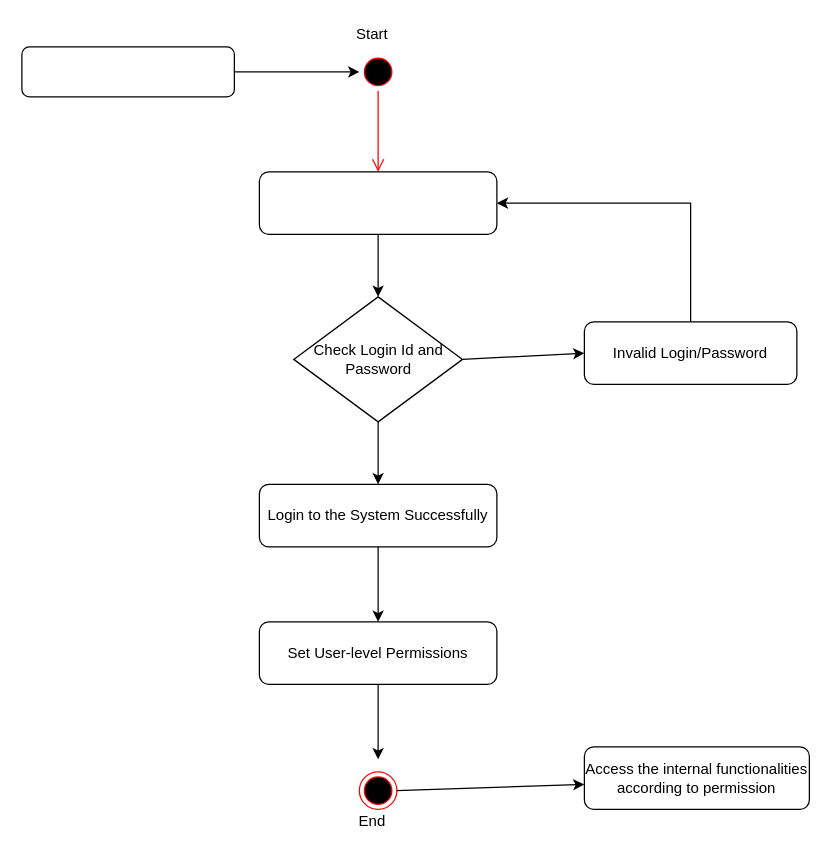
The diagram is 831 pixels wide and 855 high, and some of its shapes have lost their labels. The box of each missing label's shape, as (x1, y1, x2, y2) in pixels:
Admin is registered: (21, 46, 234, 97)
Admin Login ID and Password: (258, 171, 497, 234)
